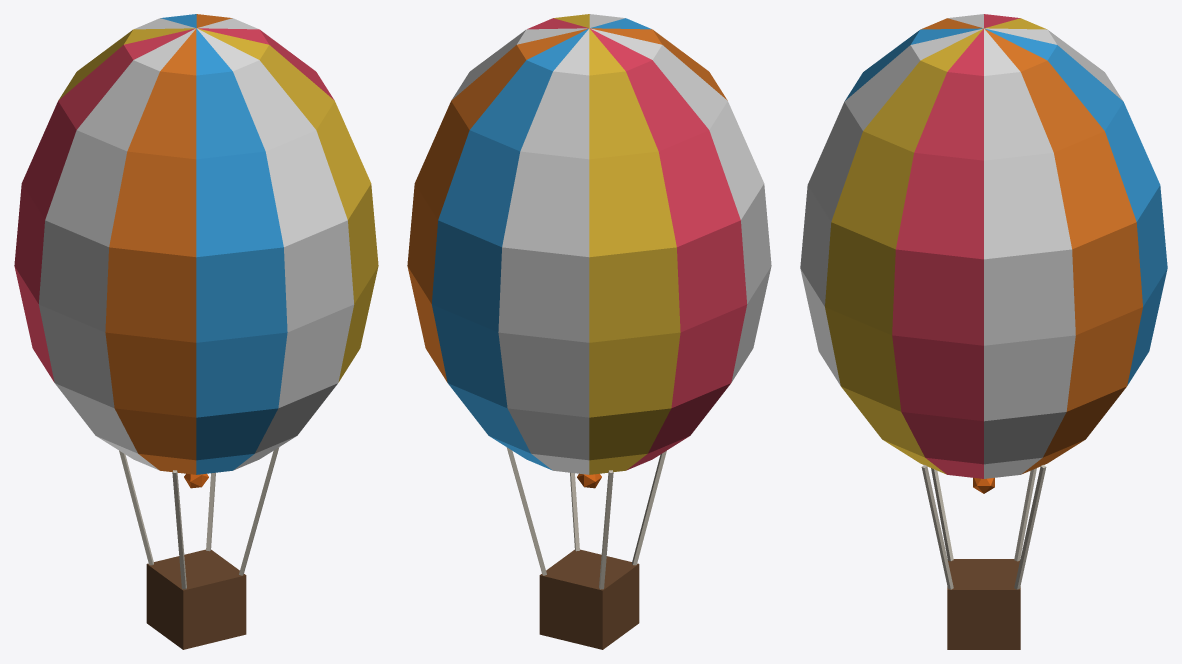
Rendered from hot_air_balloon.glb.
The picture shows the model from 3 angles, left to right: view 1: azimuth 30°, elevation 25°; view 2: azimuth 150°, elevation 25°; view 3: azimuth 270°, elevation 25°; orthographic projection.
Parts seen in each view (by area): view 1: hot_air_balloon; view 2: hot_air_balloon; view 3: hot_air_balloon.
Boxes of the visible parts, <box> form: hot_air_balloon: <box>14,14,378,649</box>; hot_air_balloon: <box>407,14,771,649</box>; hot_air_balloon: <box>800,14,1167,649</box>.
Size of the model in its own units: 1 by 1.82 by 1.
